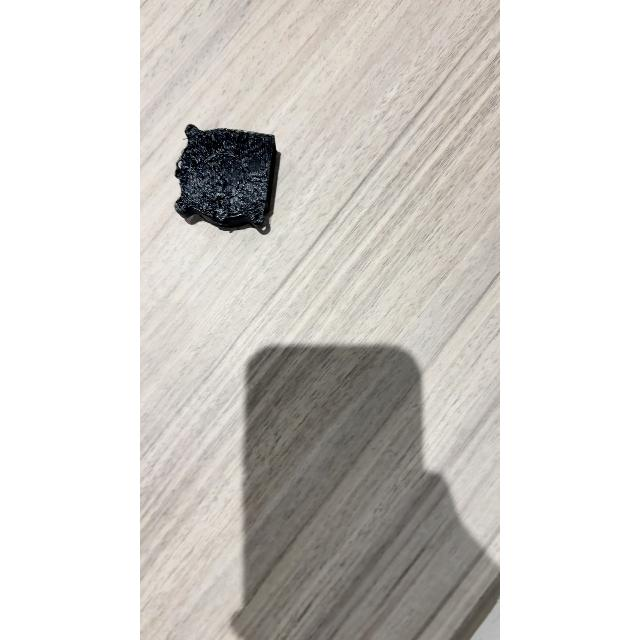Pieza_3: (164, 125, 296, 242)
